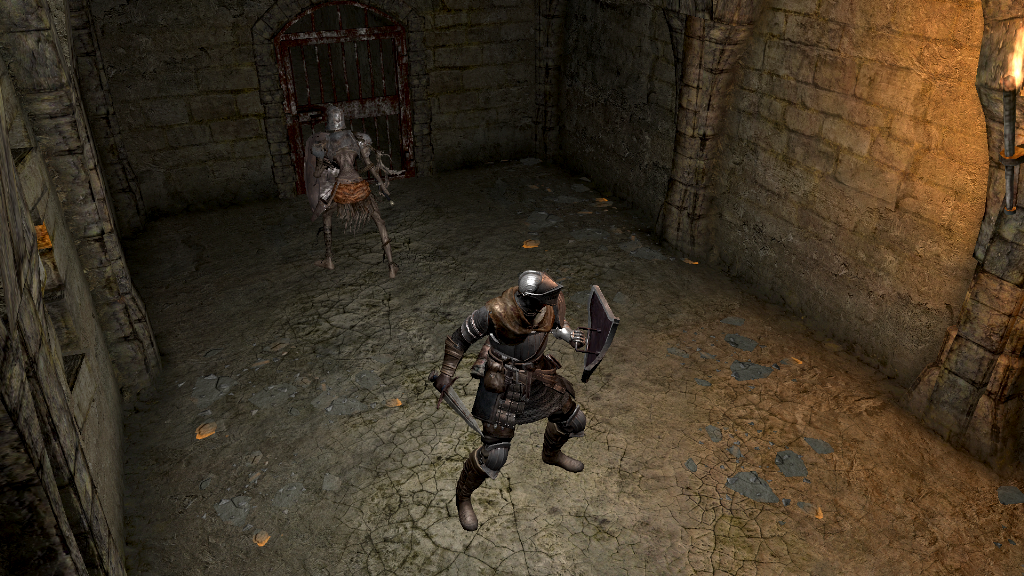player: (427, 268, 624, 530)
undeadSoldier: (300, 104, 404, 280)
